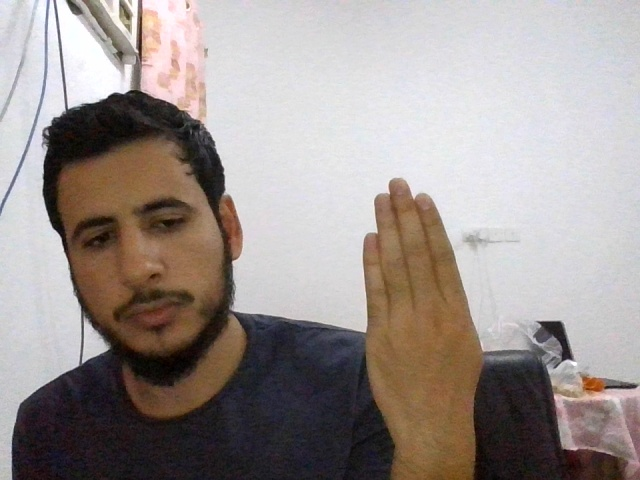Four: (363, 178, 483, 440)
